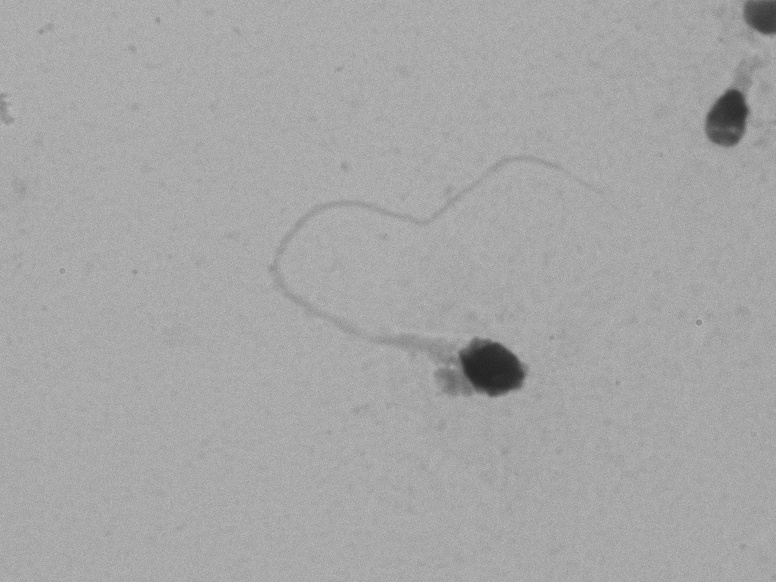Abnormal: (208, 106, 601, 421)
